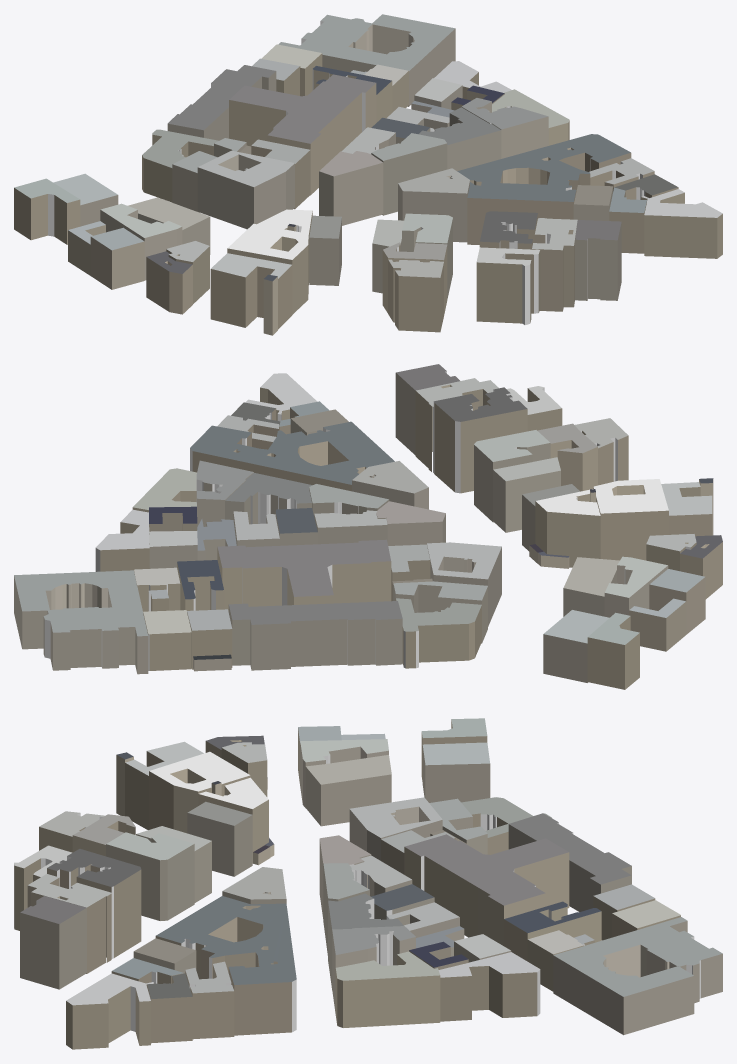
The picture shows the model from 3 angles, top to bottom: view 1: azimuth 30°, elevation 25°; view 2: azimuth 150°, elevation 25°; view 3: azimuth 270°, elevation 25°; orthographic projection. The views are drawn at different scales.
Visible parts, largest first — view 1: tuile; view 2: tuile; view 3: tuile.
Boxes of the visible parts, x1=… form: tuile: x1=14, y1=14, x2=722, y2=335; tuile: x1=14, y1=364, x2=722, y2=689; tuile: x1=14, y1=718, x2=722, y2=1049.
Size of the model in its own units: 254 by 32.35 by 278.
